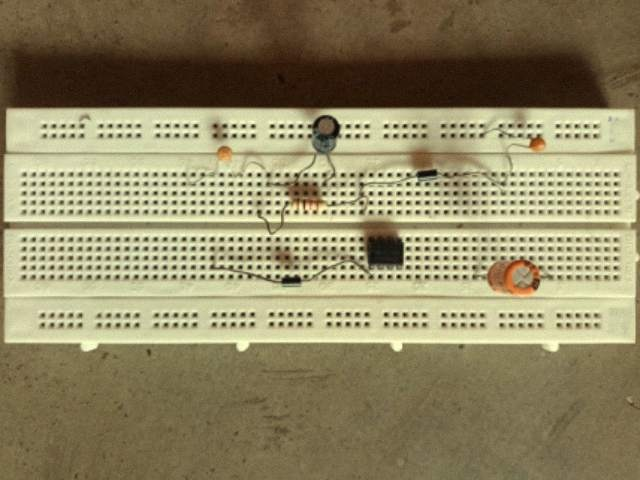capacitor: (486, 259, 541, 297), (311, 115, 340, 154), (527, 137, 546, 153), (218, 145, 233, 162)
resistor: (290, 197, 328, 212)
